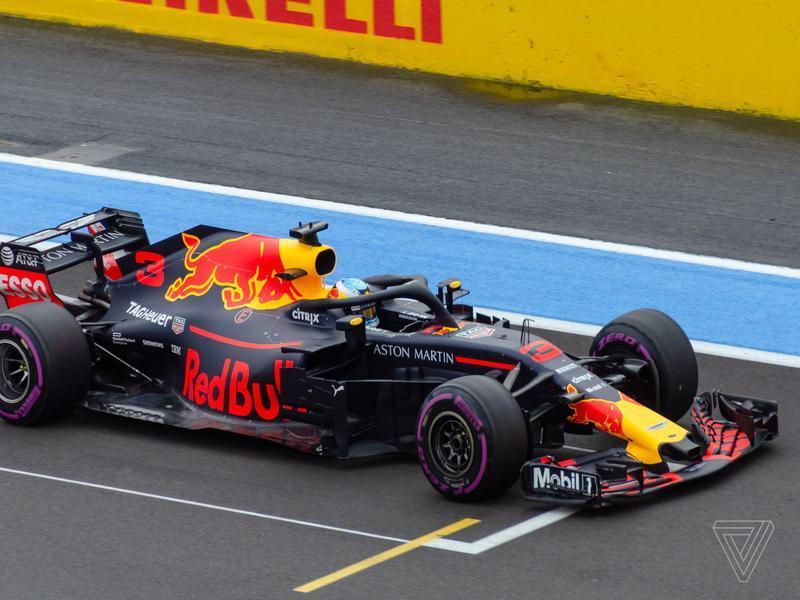f1: (2, 177, 760, 516)
